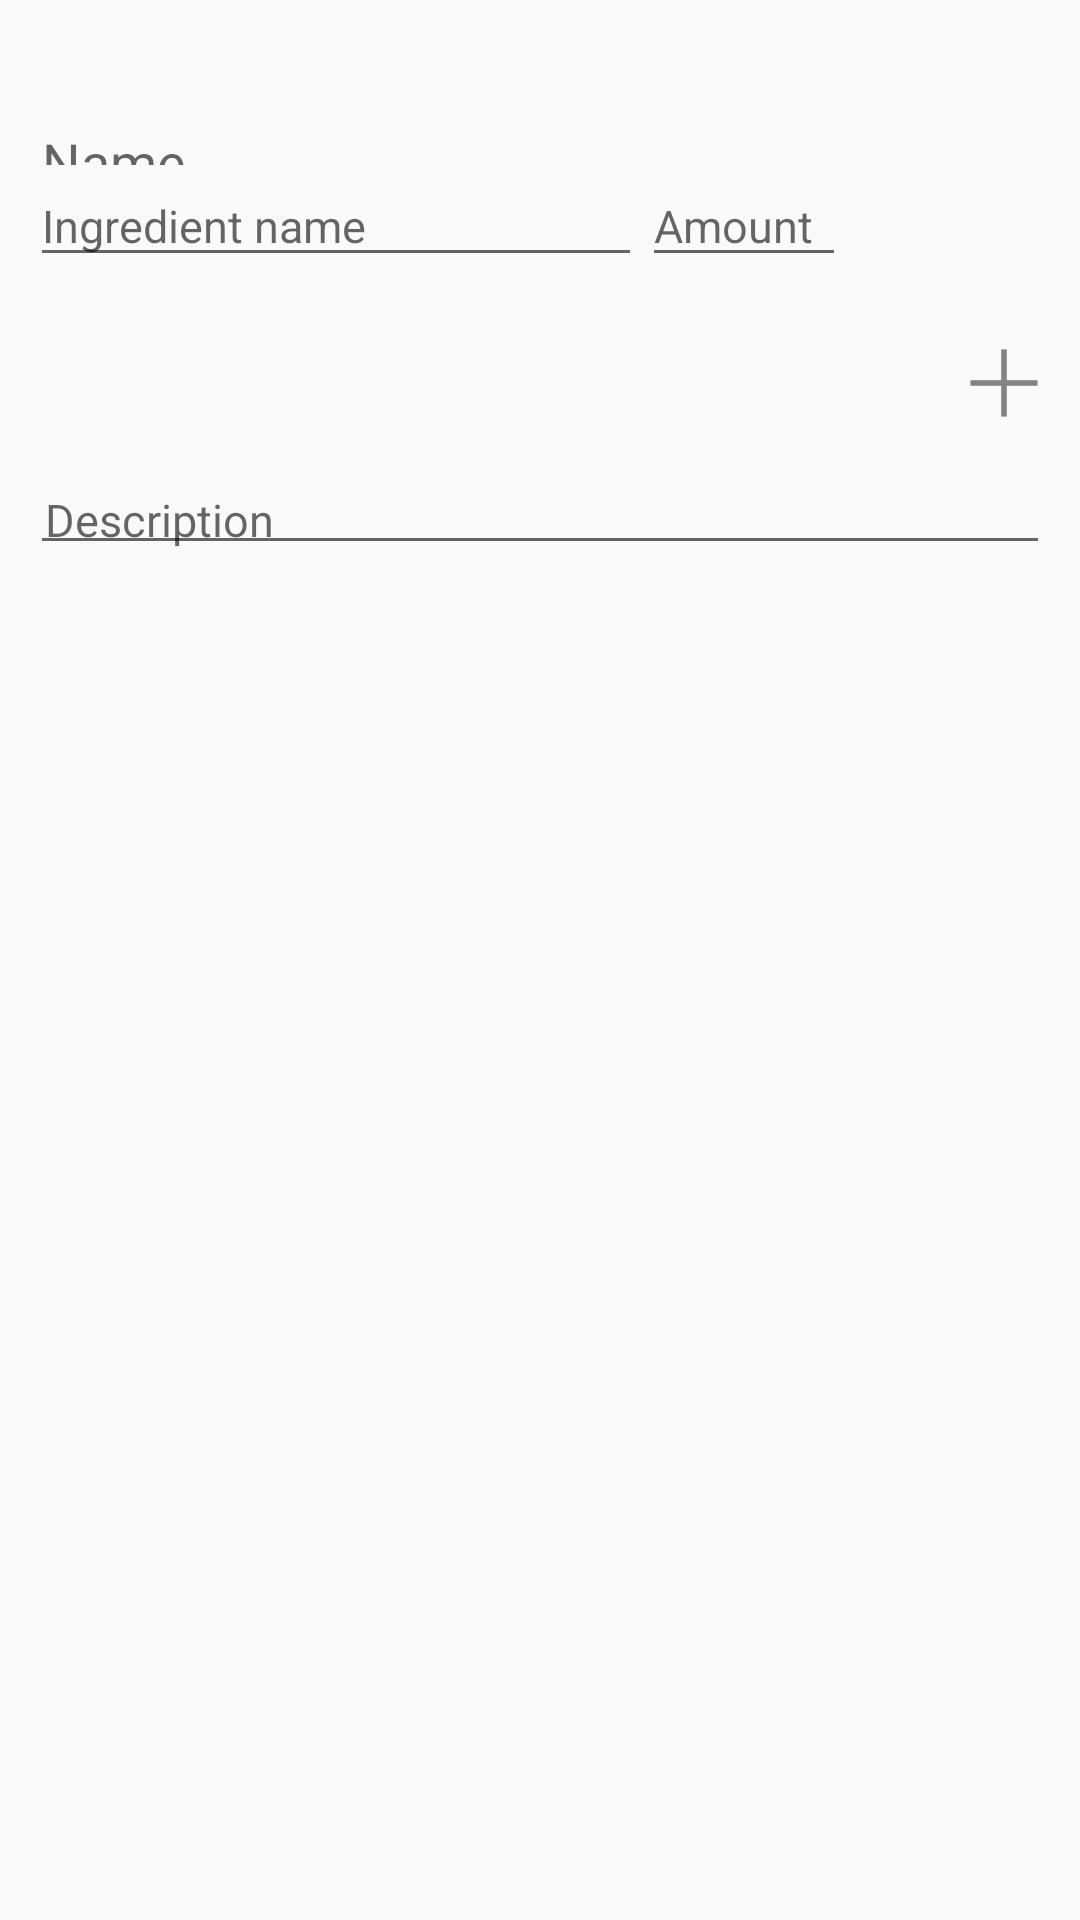

Point at icon controls on the screen. Image size 1080px x 1920px, points as (x=x, y=y).
add: (x=1004, y=383)
